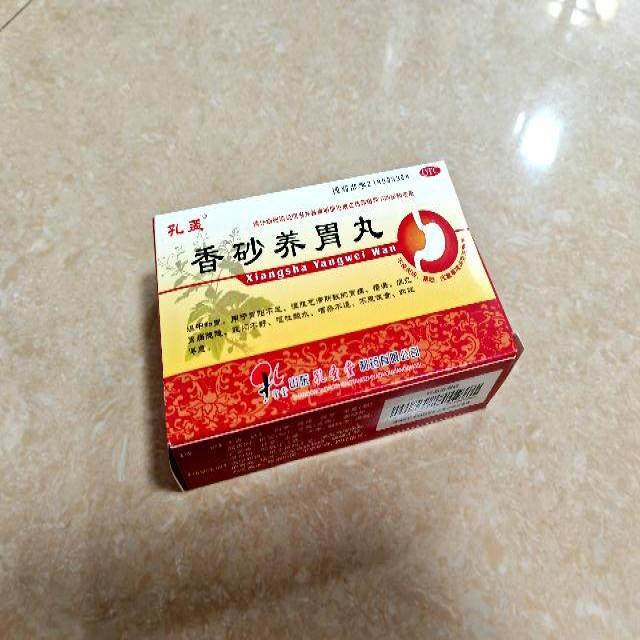box: (152, 160, 520, 493)
